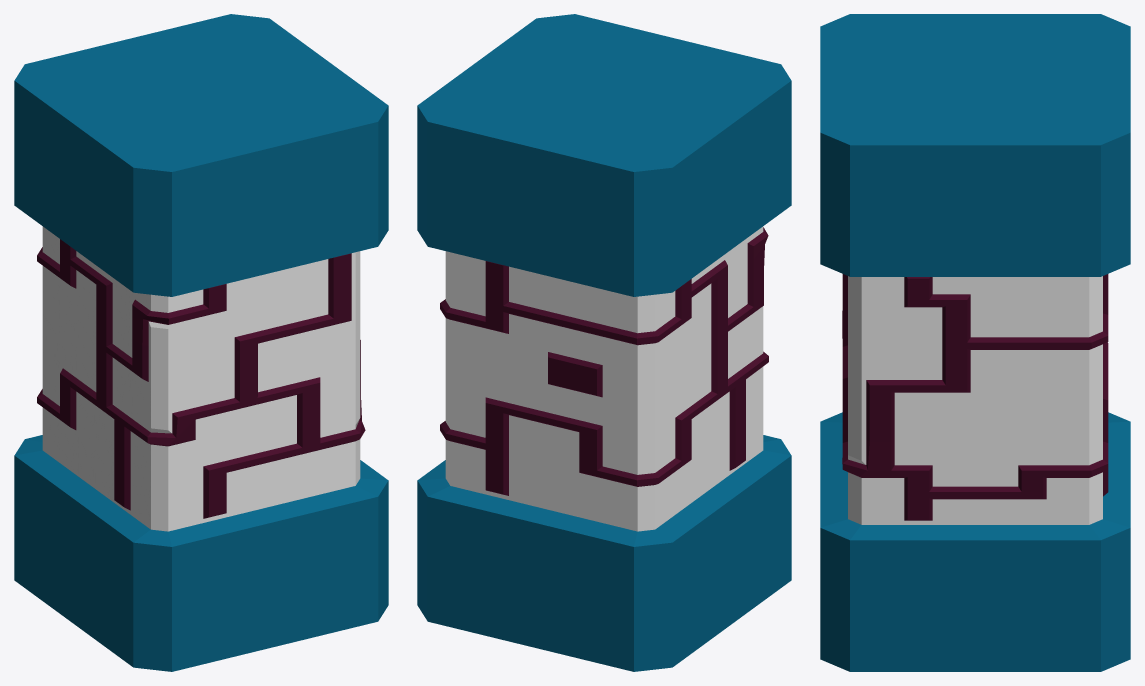
File: computer.fbx
3 renders of one model, left to right at view 1: azimuth 30°, elevation 25°; view 2: azimuth 150°, elevation 25°; view 3: azimuth 270°, elevation 25°, orthographic. The views are drawn at different scales.
Parts seen in each view (by area): view 1: Computer; view 2: Computer; view 3: Computer.
Part boxes in pixels (<box>): Computer: <box>14,14,388,671</box>; Computer: <box>417,14,791,671</box>; Computer: <box>820,14,1130,671</box>.
Size of the model in its own units: 63.66 by 119 by 63.66.
